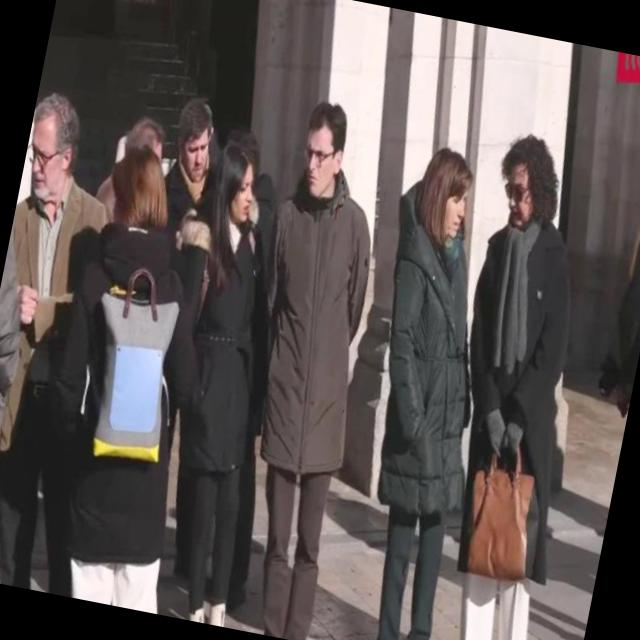person: (175, 62, 466, 640), (285, 108, 560, 640), (370, 106, 640, 640), (0, 123, 265, 618), (113, 106, 350, 633), (0, 58, 182, 599)
